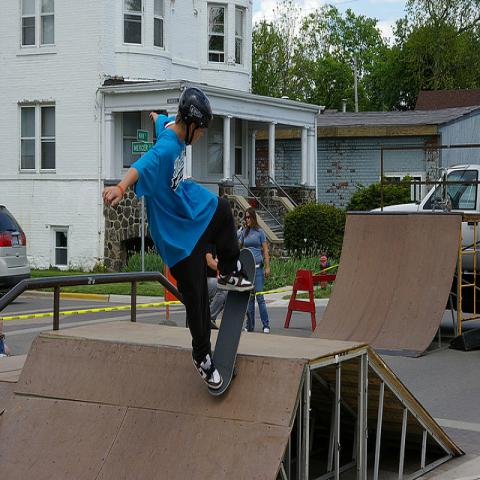car: (0, 206, 32, 290)
truck: (370, 163, 479, 273)
